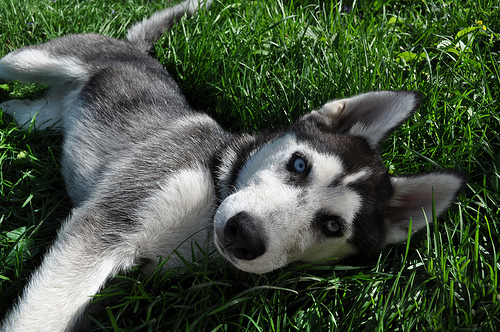dog: (3, 2, 460, 331)
